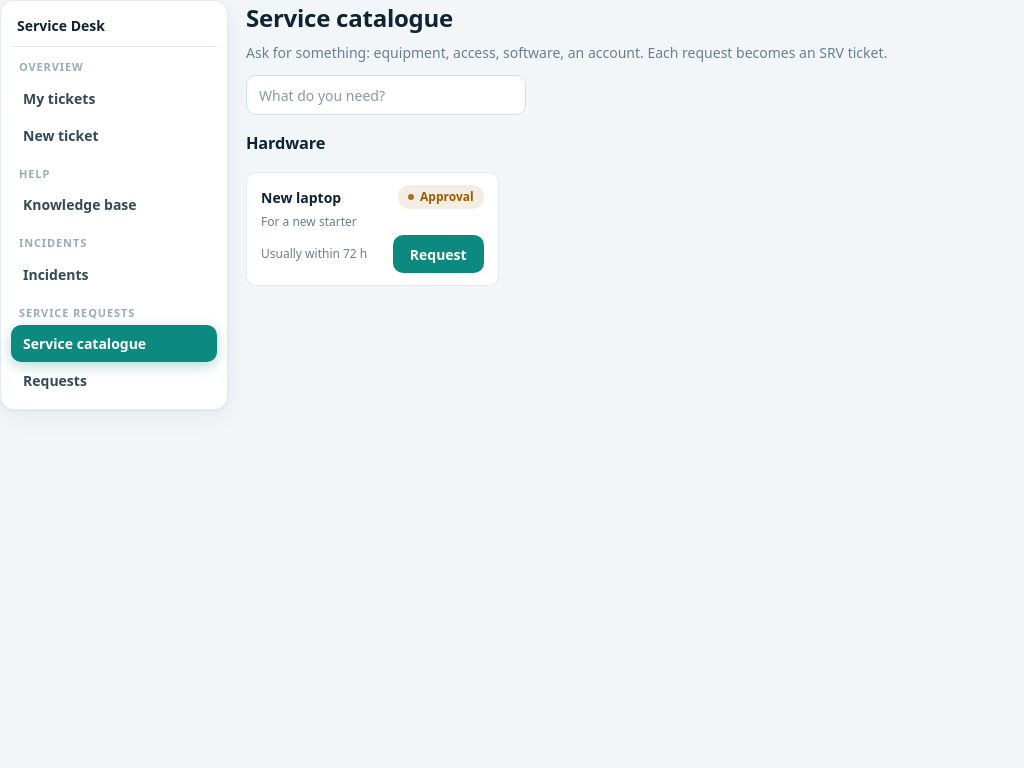
Test: a customer asks for an item from the catalogue and is told it waits for approval
Click the button "Request": click(438, 254) [393,235,484,273]
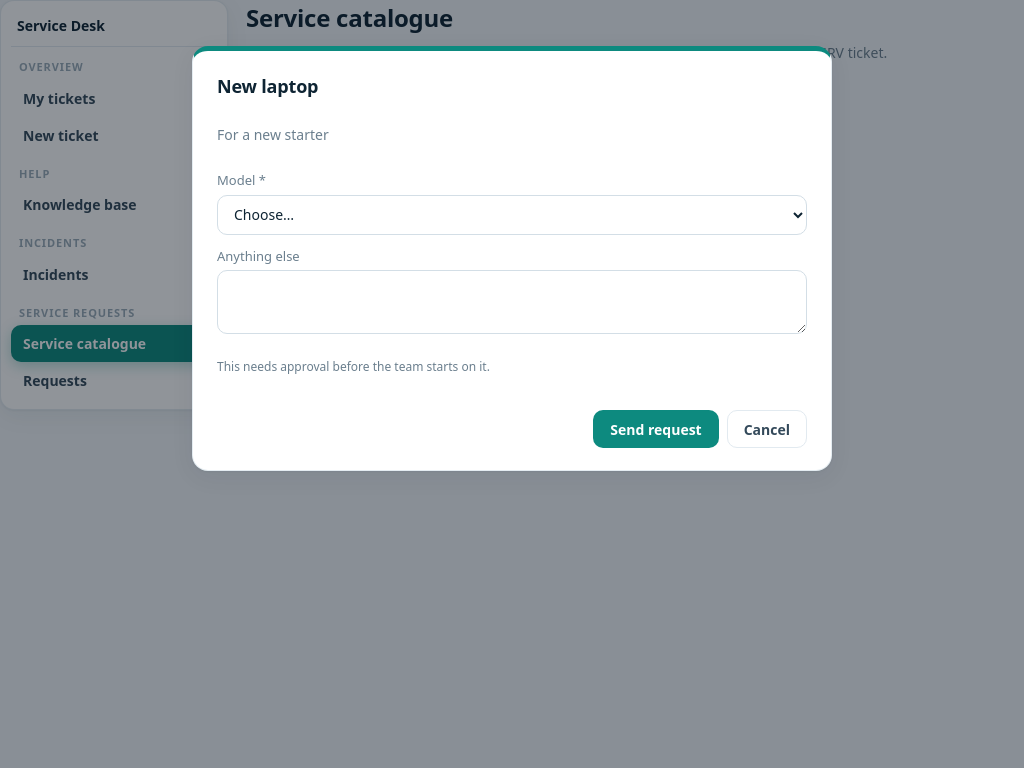
Select "Developer" in the dropdown labelled "Model *": (512, 215) [217,195,807,235]
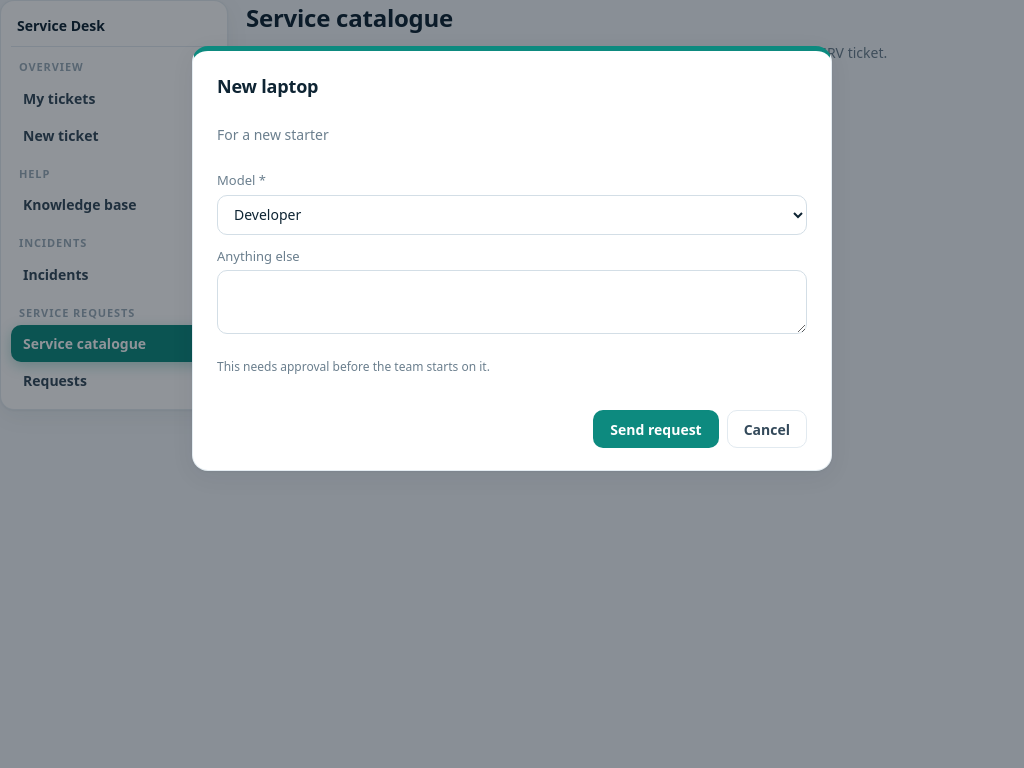
Click the button "Send request": click(656, 429) [593,410,719,448]
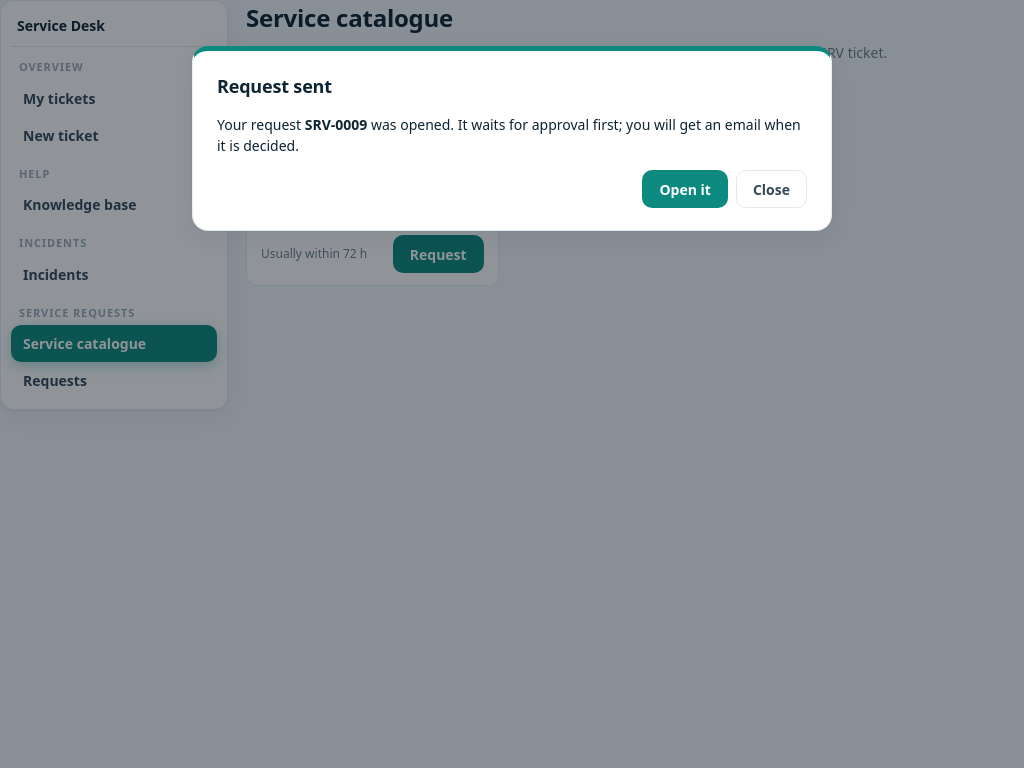
expect the text "SRV-0009" is shown: met, box [305,115,367,134]
expect the text "waits for approval" is shown: met, box [217,115,801,155]
